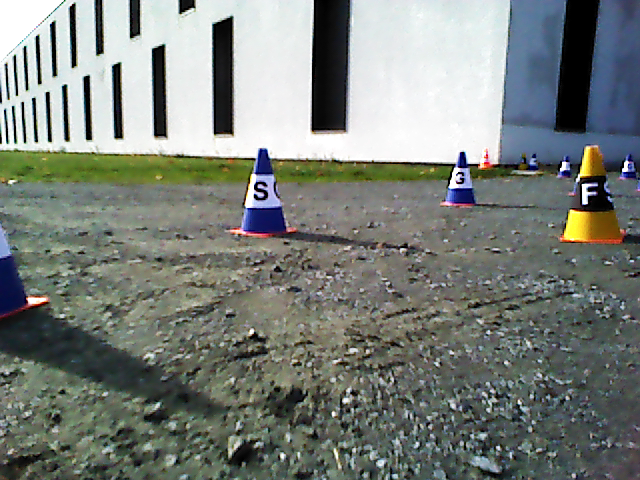bluecone: (241, 148, 283, 230), (446, 151, 474, 202), (622, 155, 636, 178)
orangeconesmall: (480, 150, 492, 168)
yellowcone: (566, 146, 620, 238)
